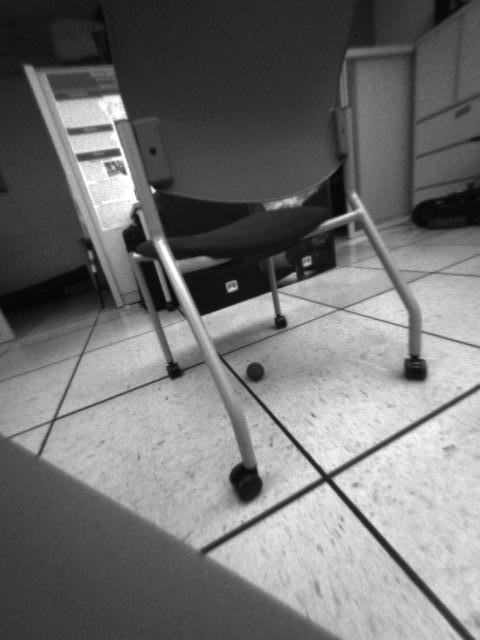dogtoy: (240, 353, 267, 383)
